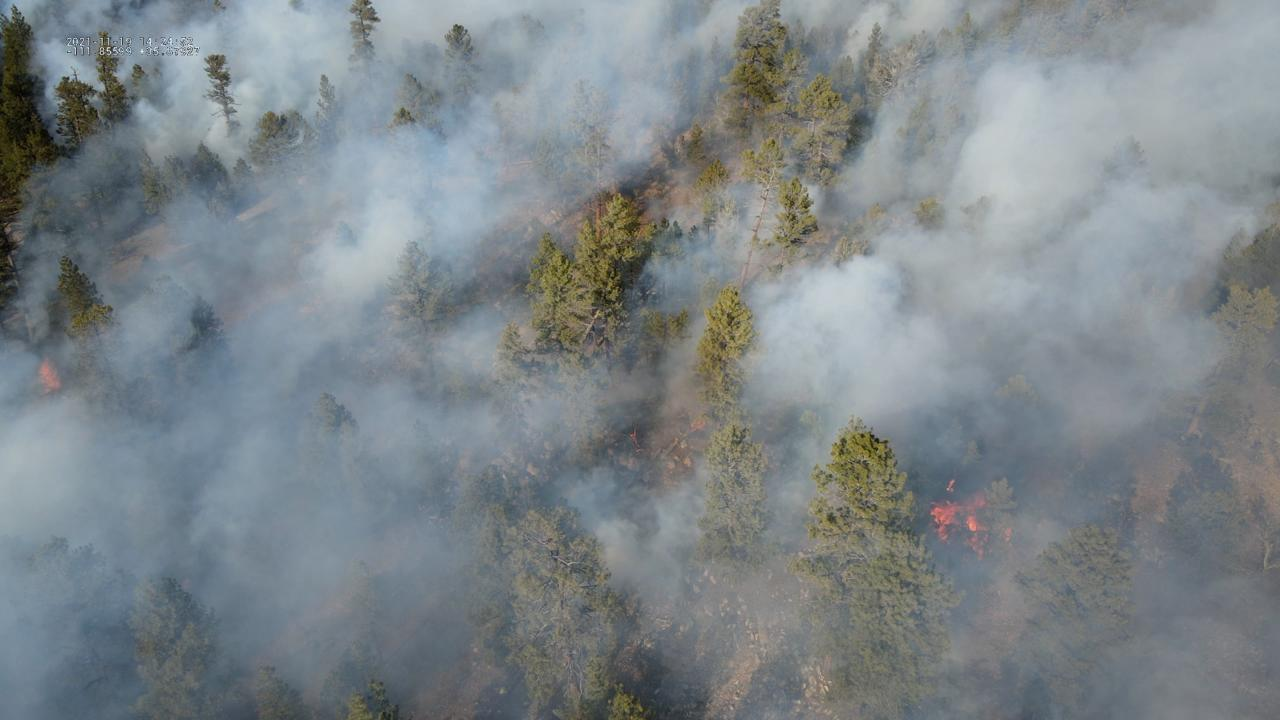fire: (923, 493, 988, 561), (34, 354, 65, 396), (944, 478, 960, 492), (1003, 526, 1014, 543), (629, 432, 636, 440)
smoke: (0, 0, 1280, 720)
